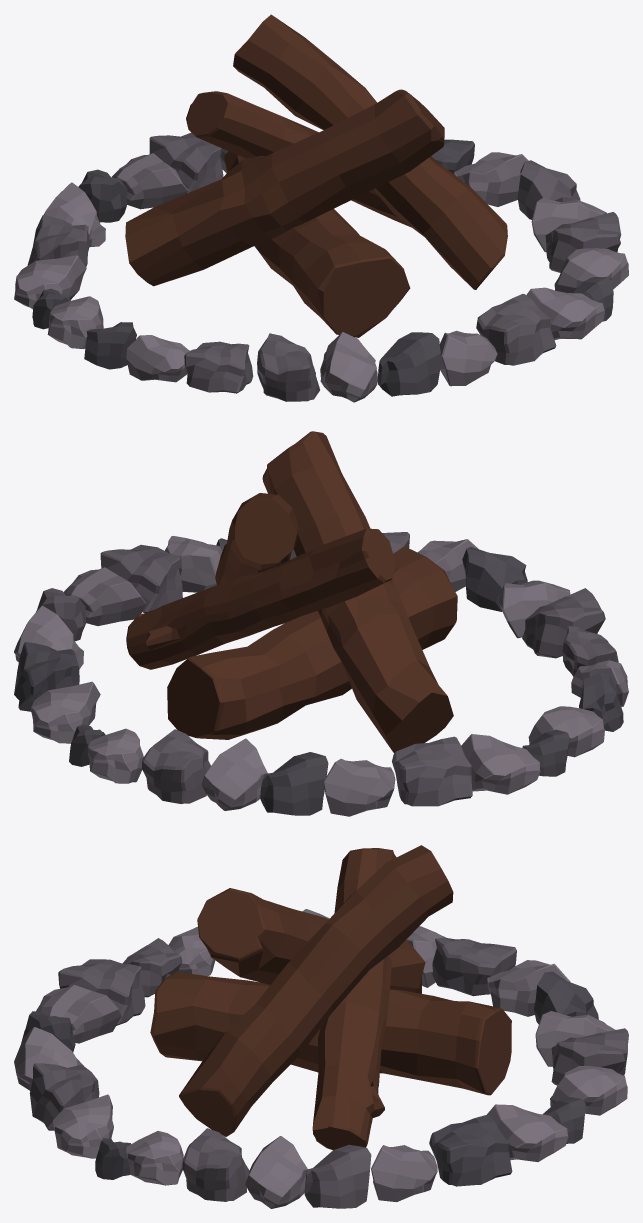
File: Lagerfeuer.fbx
3 views of the same model, one above another, from view 1: azimuth 30°, elevation 25°; view 2: azimuth 150°, elevation 25°; view 3: azimuth 270°, elevation 25° (orthographic). The views are drawn at different scales.
Parts seen in each view (by area): view 1: Cube.015; view 2: Cube.015; view 3: Cube.015.
Part boxes in pixels (x1,y1,x2,y2): Cube.015: (14,14,628,402); Cube.015: (14,431,628,816); Cube.015: (14,845,628,1208).
Size of the model in its own units: 309 by 127 by 296.
